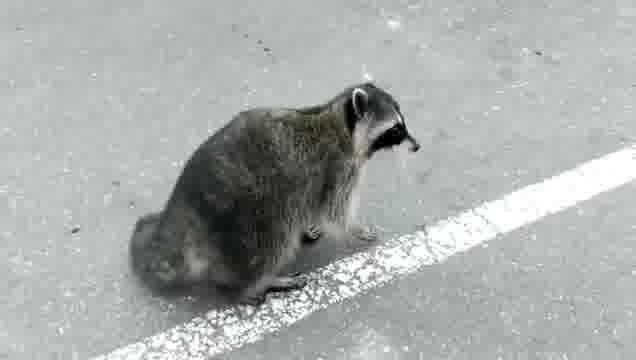raccoon: (131, 73, 422, 309)
